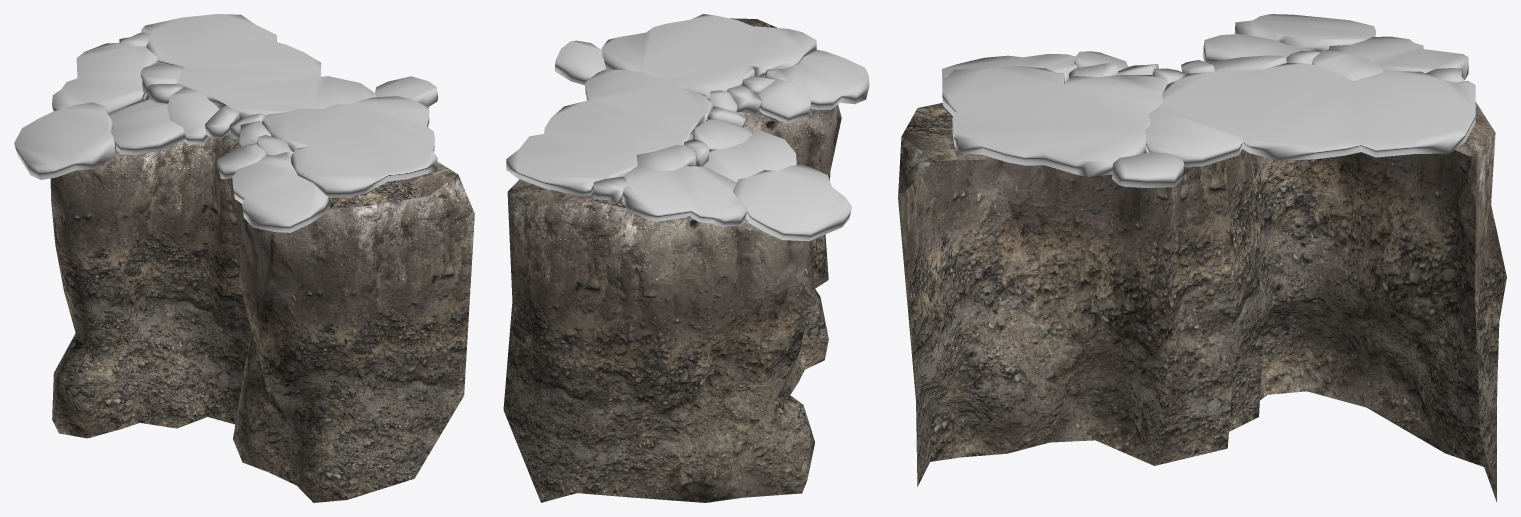
The model's file is Road_end4.fbx.
3 renders of one model, left to right at view 1: azimuth 30°, elevation 25°; view 2: azimuth 150°, elevation 25°; view 3: azimuth 270°, elevation 25°, orthographic. The views are drawn at different scales.
Visible parts, largest first — view 1: polySurface403; view 2: polySurface403; view 3: polySurface403.
Boxes of the visible parts, x1=… form: polySurface403: x1=14, y1=14, x2=474, y2=502; polySurface403: x1=503, y1=14, x2=869, y2=502; polySurface403: x1=898, y1=14, x2=1506, y2=502.
Size of the model in its own units: 5.54 by 5.01 by 6.81.
